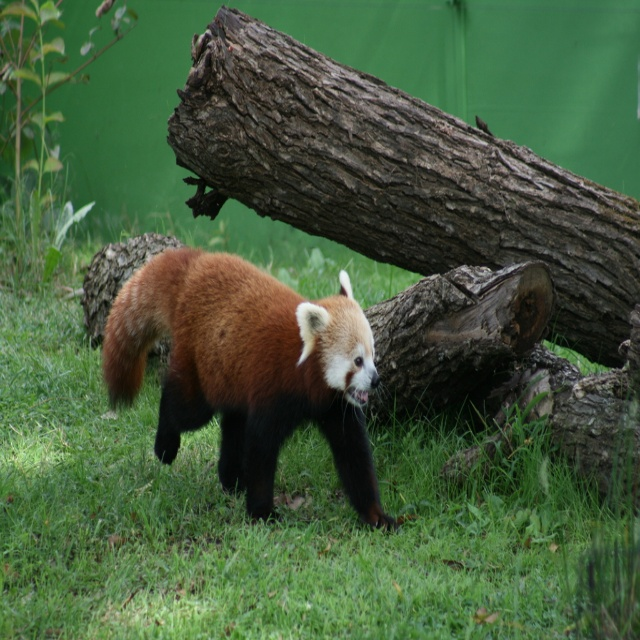Bear: (99, 244, 419, 534)
